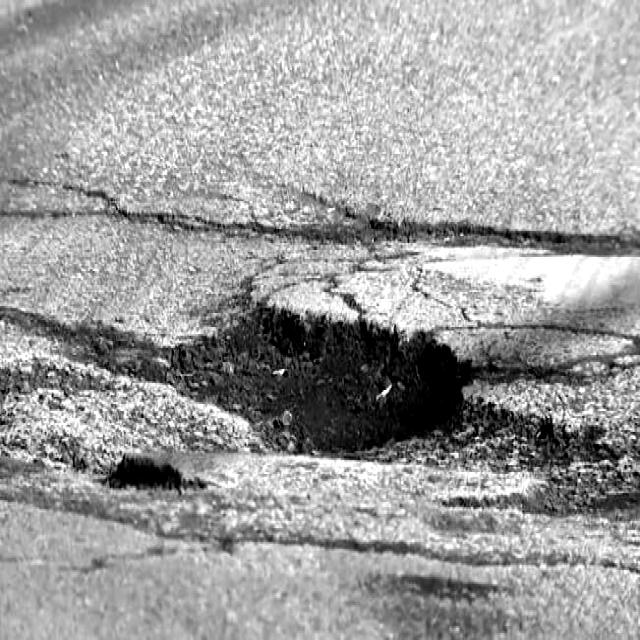pathole: (50, 159, 640, 636), (165, 302, 461, 451)
